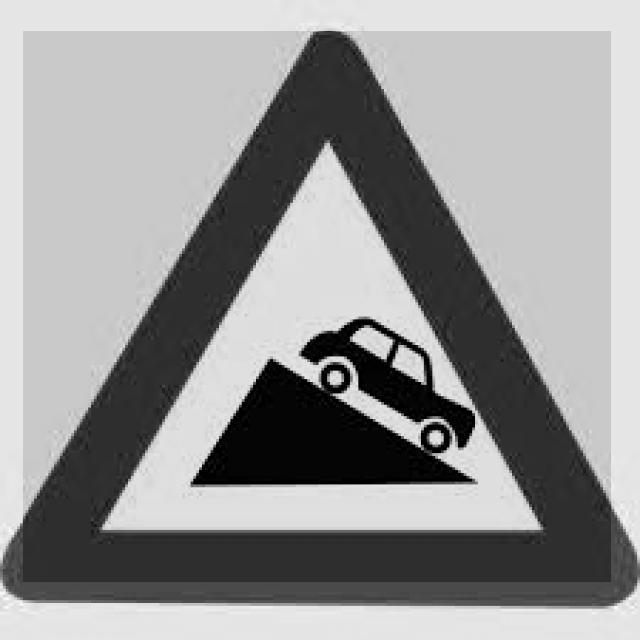steep descent: (17, 28, 615, 606)
